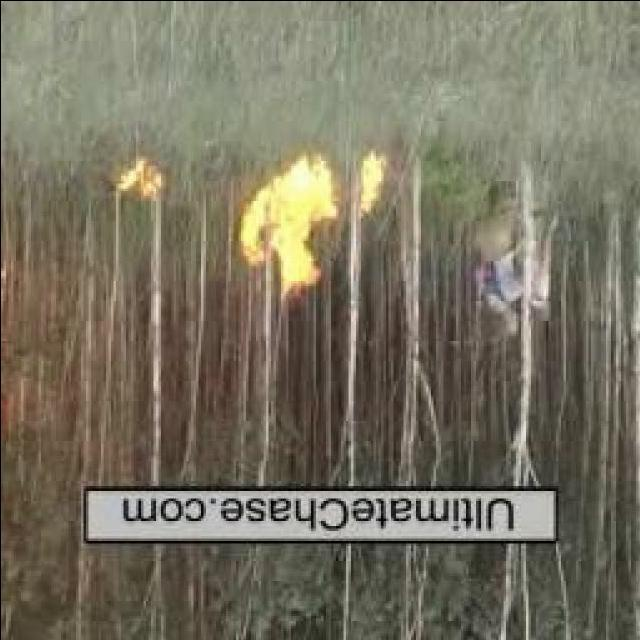Fire: (239, 158, 337, 284), (116, 152, 164, 206), (359, 145, 383, 221)
